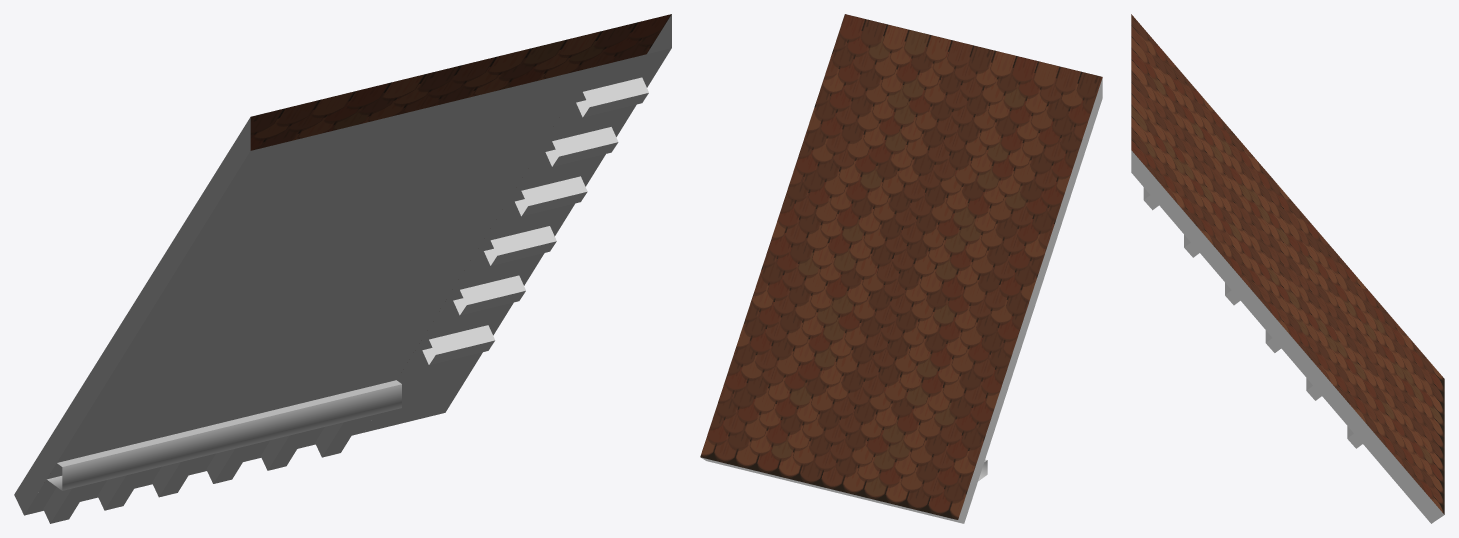
The model's file is Roof_End_Normal_02_B.FBX.
The picture shows the model from 3 angles, left to right: view 1: azimuth 30°, elevation 25°; view 2: azimuth 150°, elevation 25°; view 3: azimuth 270°, elevation 25°; orthographic projection. The views are drawn at different scales.
Parts seen in each view (by area): view 1: Roof_End_Normal_02_B; view 2: Roof_End_Normal_02_B; view 3: Roof_End_Normal_02_B.
Boxes of the visible parts, left/top/right/bottom form: Roof_End_Normal_02_B: left=14, top=14, right=671, bottom=523; Roof_End_Normal_02_B: left=700, top=14, right=1102, bottom=523; Roof_End_Normal_02_B: left=1131, top=14, right=1444, bottom=523.
Size of the model in its own units: 7.75 by 10.04 by 7.53.
